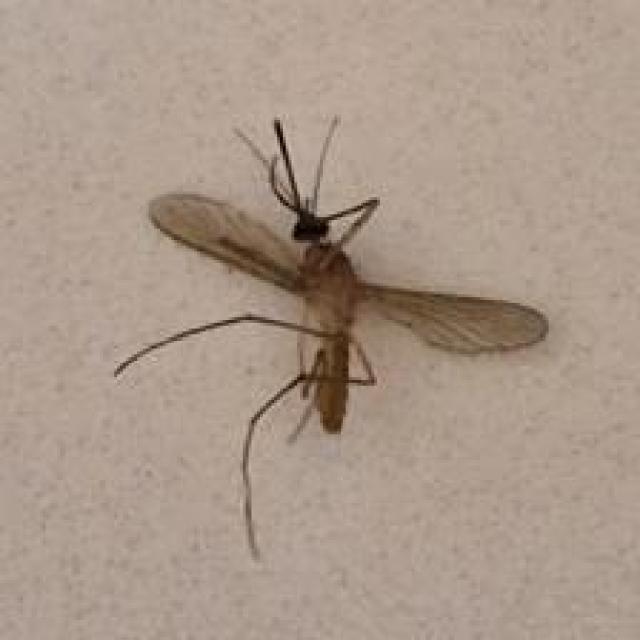Culex: (113, 113, 550, 561)
